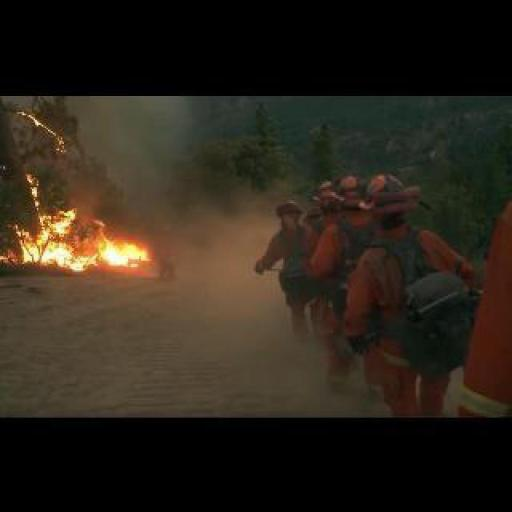smoke: (2, 163, 155, 277), (16, 106, 66, 148)
